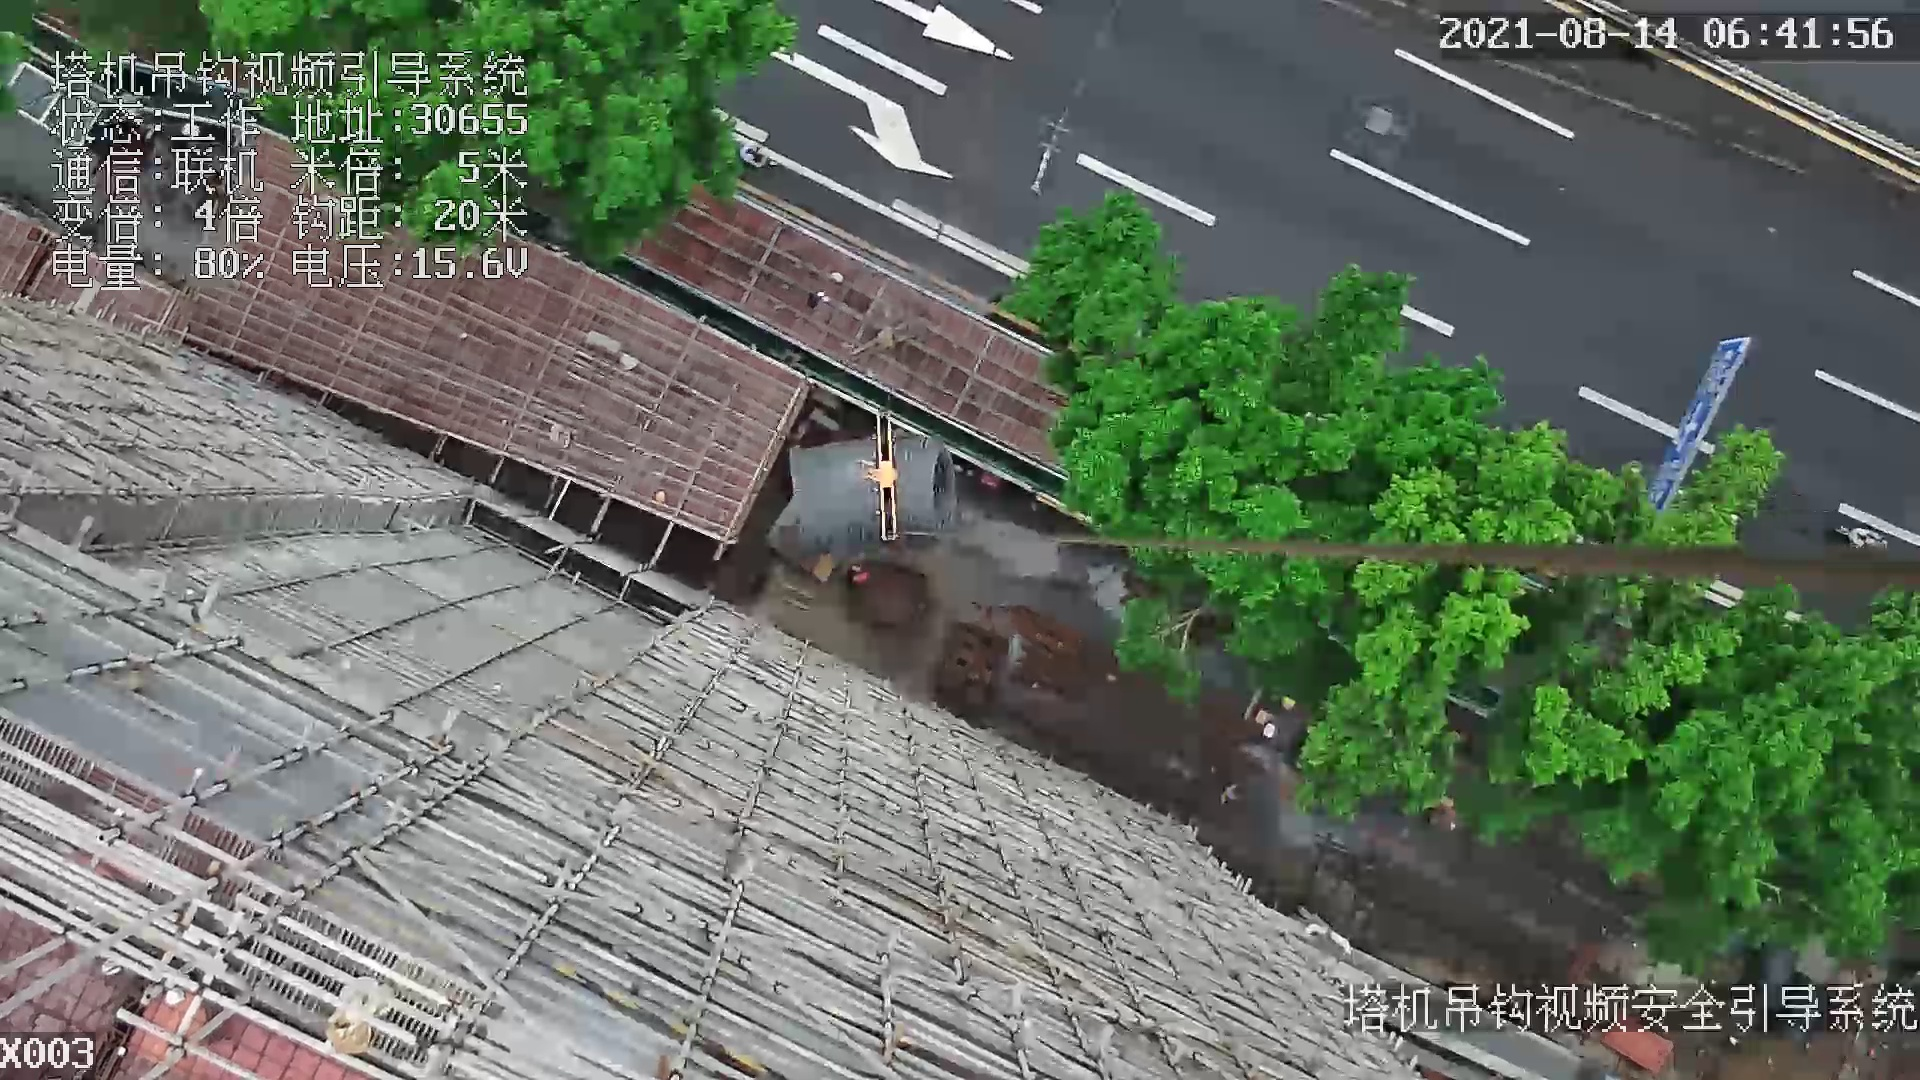hook: (854, 404, 904, 540)
person: (1832, 523, 1892, 549), (738, 139, 781, 171)
